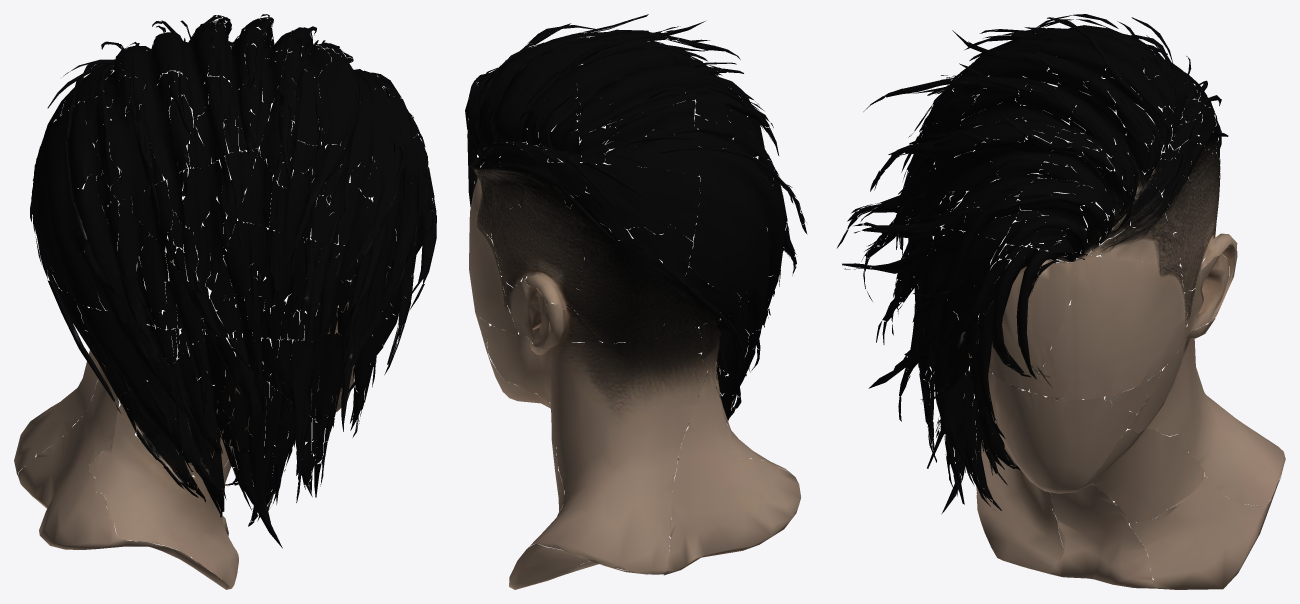
File: hair_ryu.glb
3 views of the same model, side by side, from view 1: azimuth 30°, elevation 25°; view 2: azimuth 150°, elevation 25°; view 3: azimuth 270°, elevation 25° (orthographic). The views are drawn at different scales.
Parts seen in each view (by area): view 1: tripo_node_b6cebad2-6b56-44d3-970d-1a953755bb2c; view 2: tripo_node_b6cebad2-6b56-44d3-970d-1a953755bb2c; view 3: tripo_node_b6cebad2-6b56-44d3-970d-1a953755bb2c.
Boxes of the visible parts, left/top/right/bottom form: tripo_node_b6cebad2-6b56-44d3-970d-1a953755bb2c: left=14, top=14, right=436, bottom=589; tripo_node_b6cebad2-6b56-44d3-970d-1a953755bb2c: left=465, top=14, right=807, bottom=589; tripo_node_b6cebad2-6b56-44d3-970d-1a953755bb2c: left=837, top=14, right=1285, bottom=589.
Bounding box in the file's own units: 0.6787 × 0.977 × 0.7352.
1 material, 1 textured.
